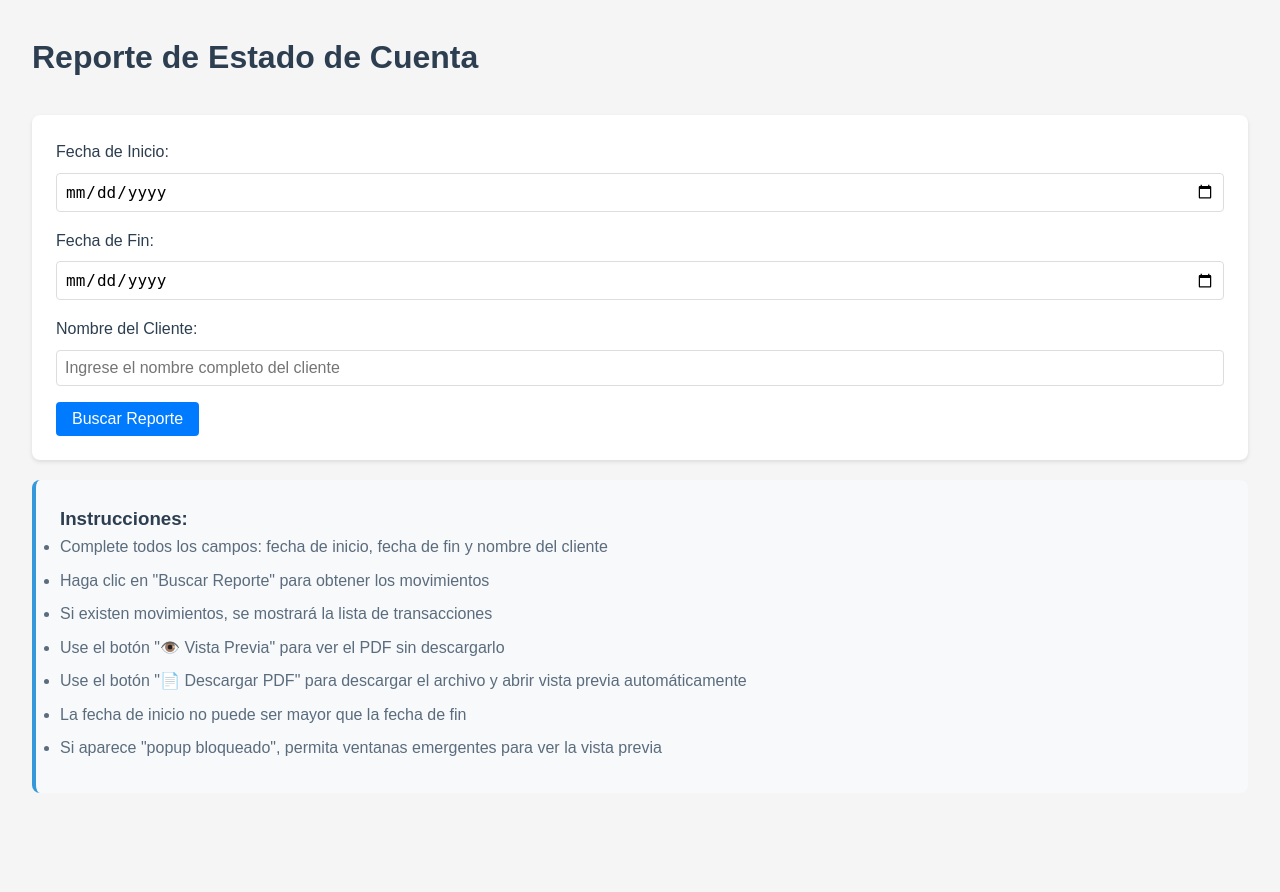
Test case: TransactionReport › should handle PDF without valid header
Type "2025-09-01" into the date field labelled "Fecha de Inicio:" at (640,192), box top-left (56, 173), bottom-right (1224, 212)
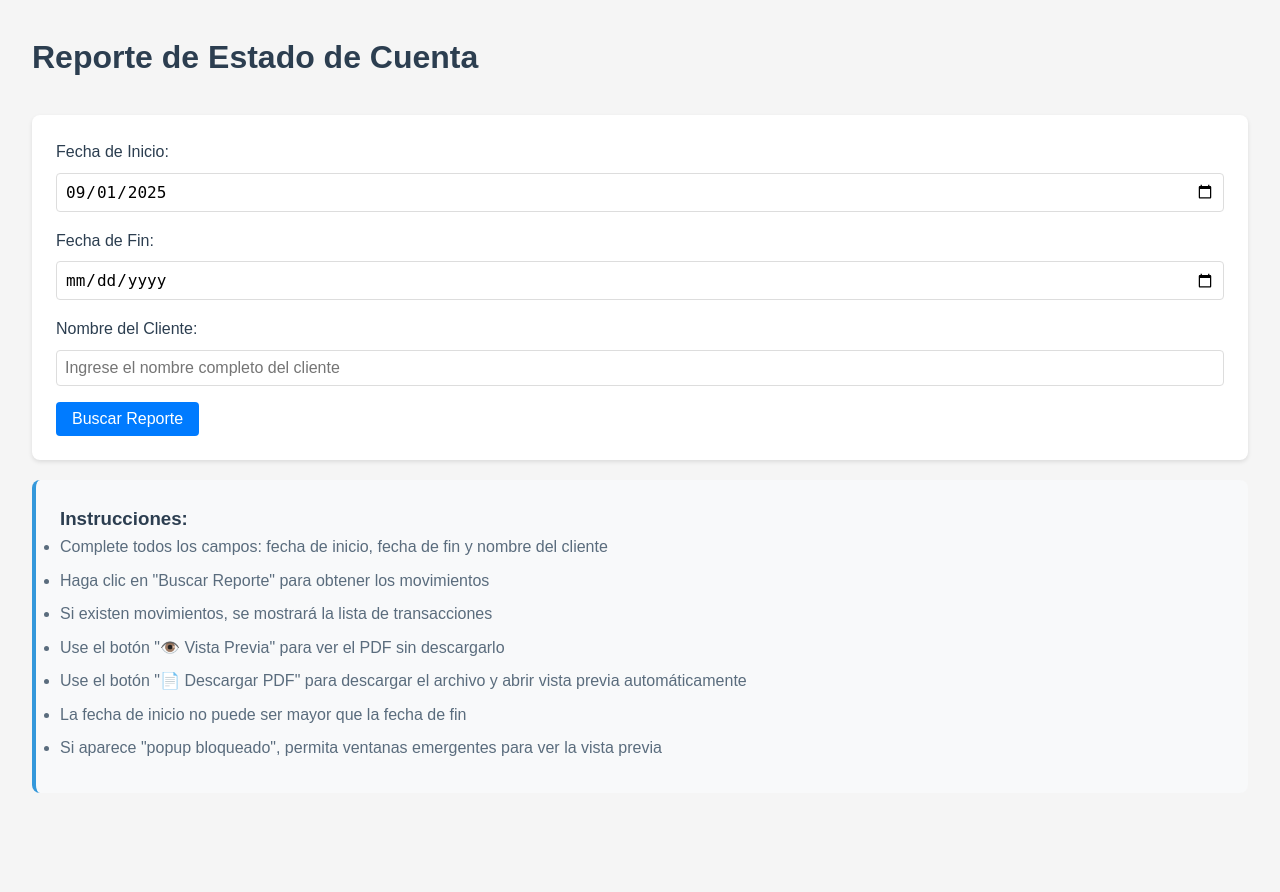
Type "2025-09-29" into the date field labelled "Fecha de Fin:" at (640,281), box top-left (56, 261), bottom-right (1224, 300)
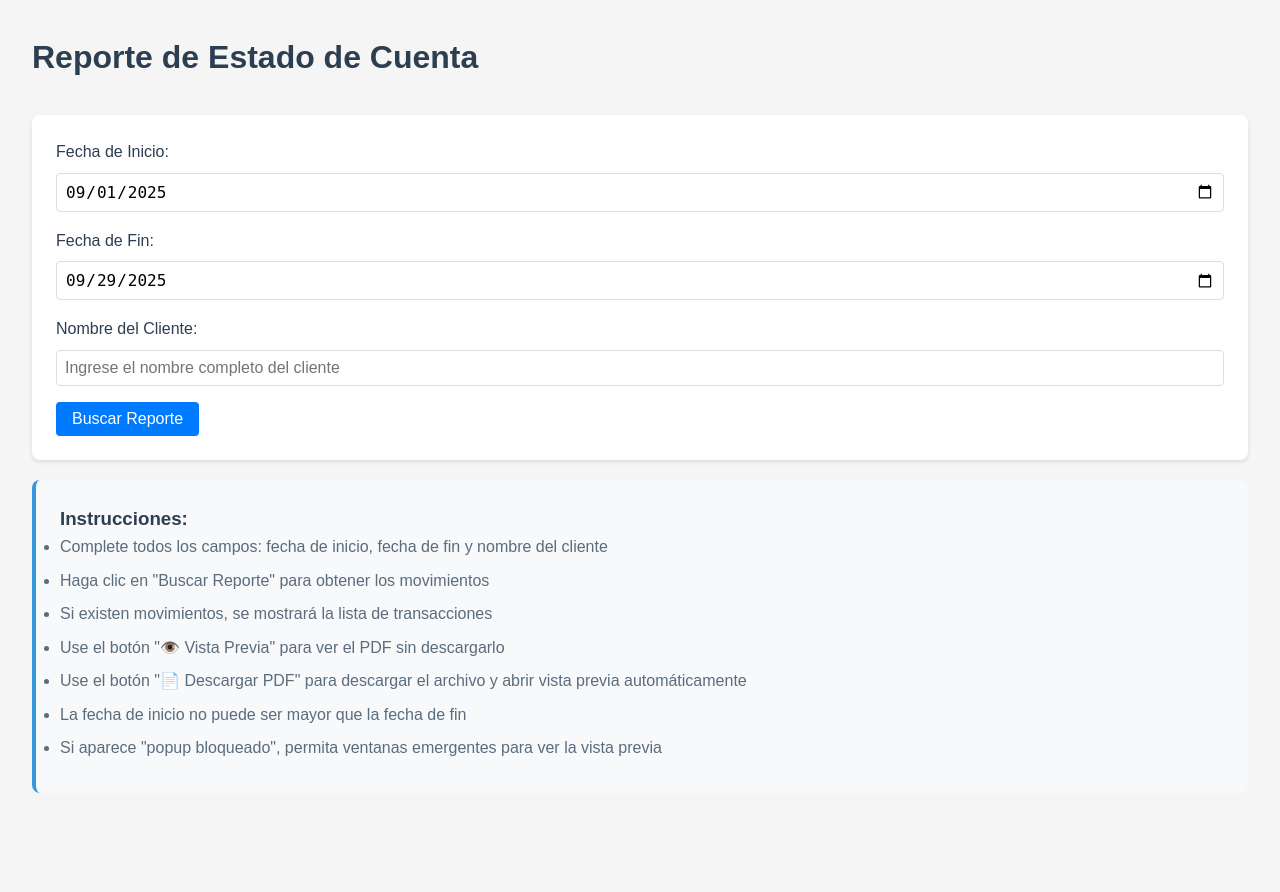
Type "Jose Lema" into the field labelled "Nombre del Cliente:" at (640,368), box top-left (56, 350), bottom-right (1224, 386)
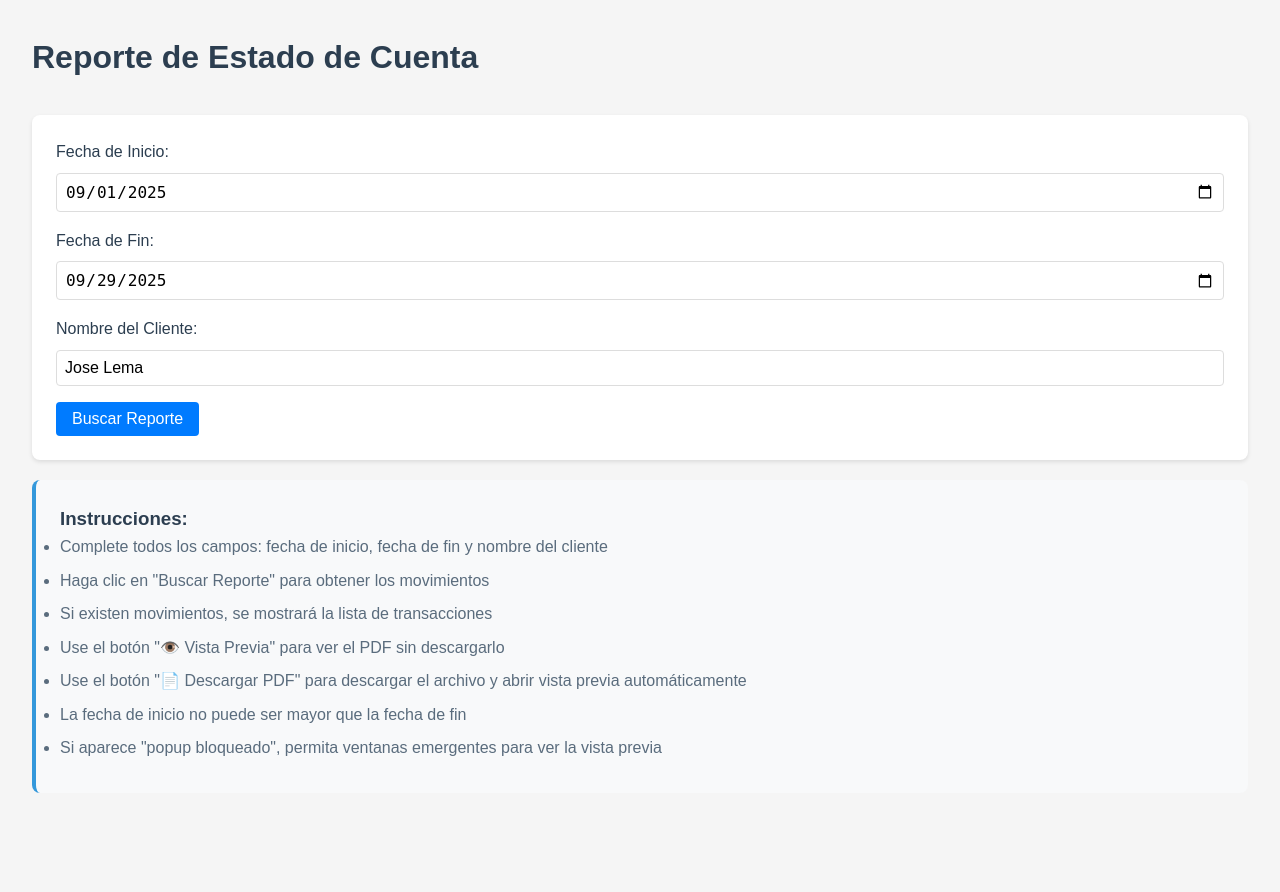
Click the button "Buscar Reporte" at (128,419), box top-left (56, 402), bottom-right (199, 436)
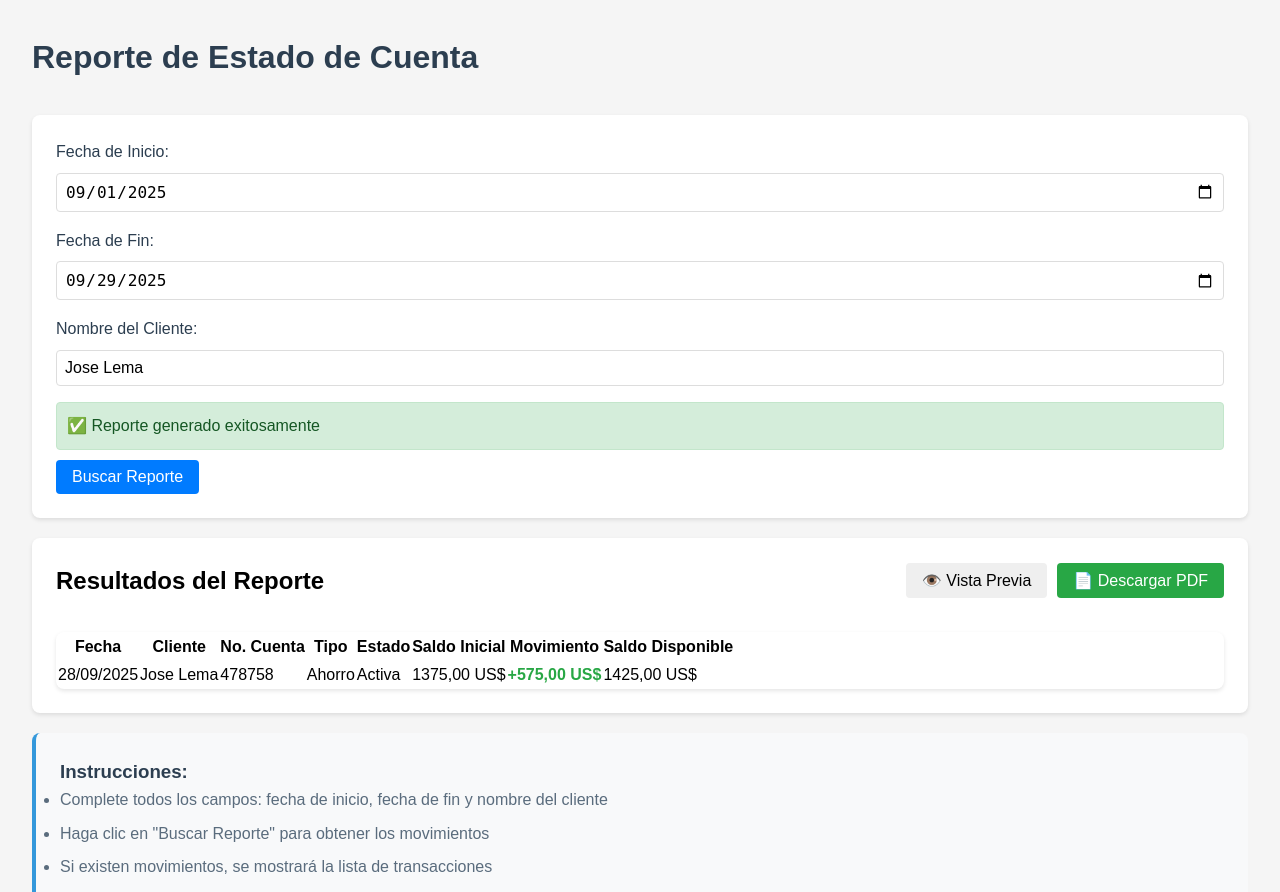
Expected: the heading "Resultados del Reporte" is shown, top-left (56, 562), bottom-right (324, 600)
# Try to preview PDF with invalid header
Click the button "👁️ Vista Previa" at (977,581), box top-left (906, 563), bottom-right (1047, 598)
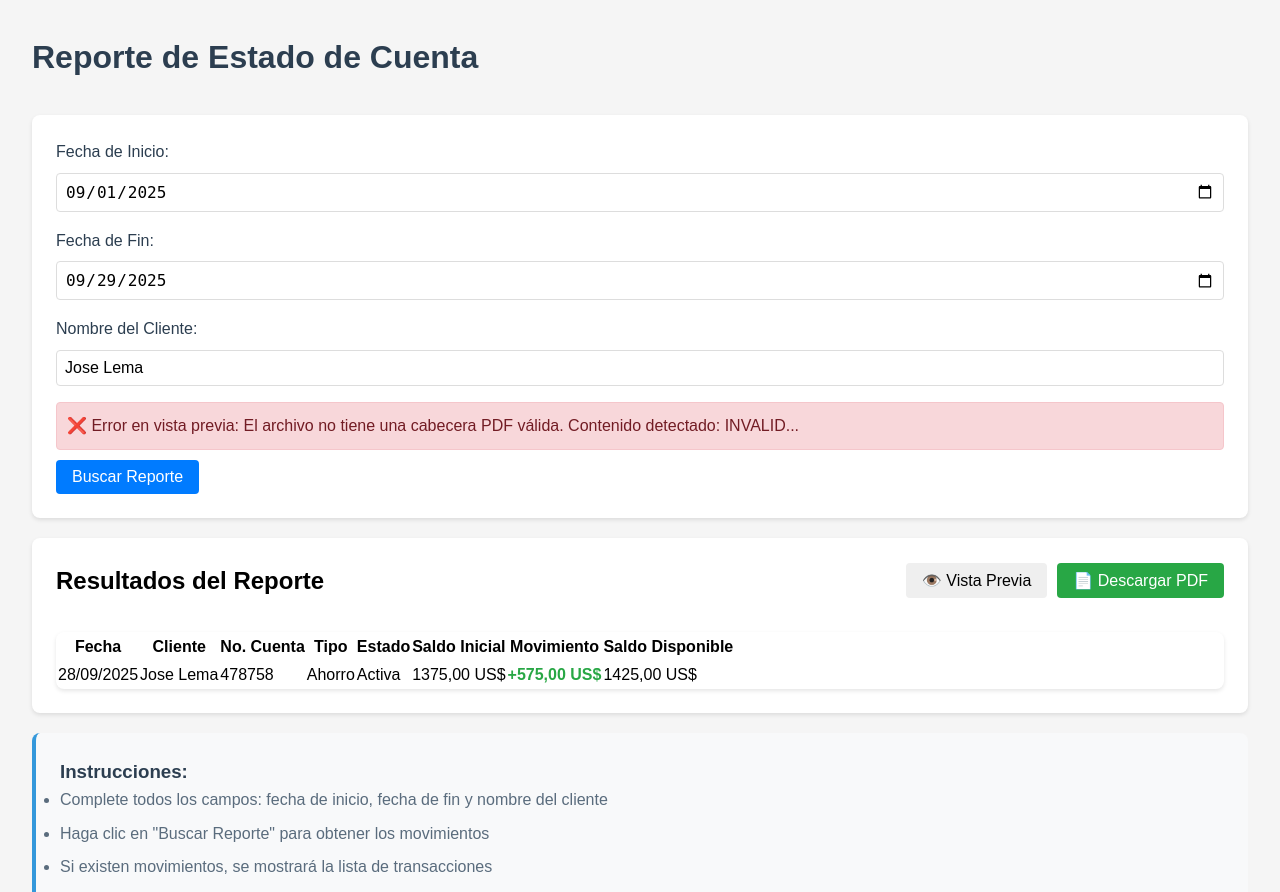
Expected: the text "❌ Error en vista previa: El archivo no tiene una cabecera PDF válida" is shown, top-left (67, 417), bottom-right (799, 434)
